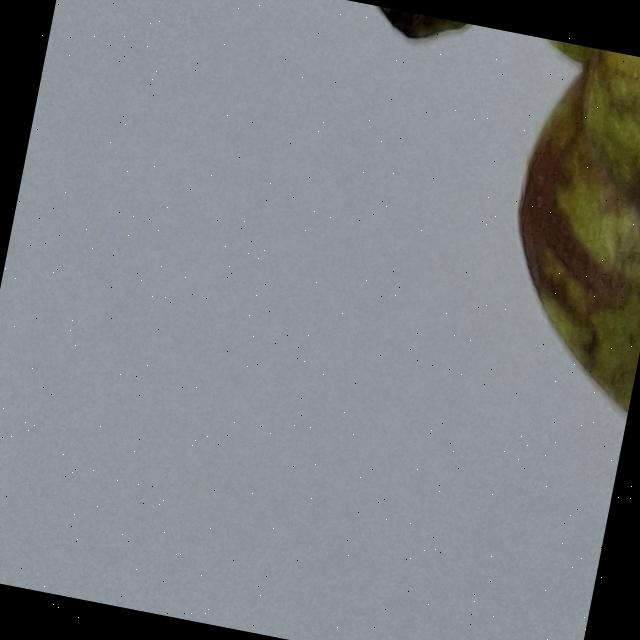mangosteen: (42, 0, 640, 640)
